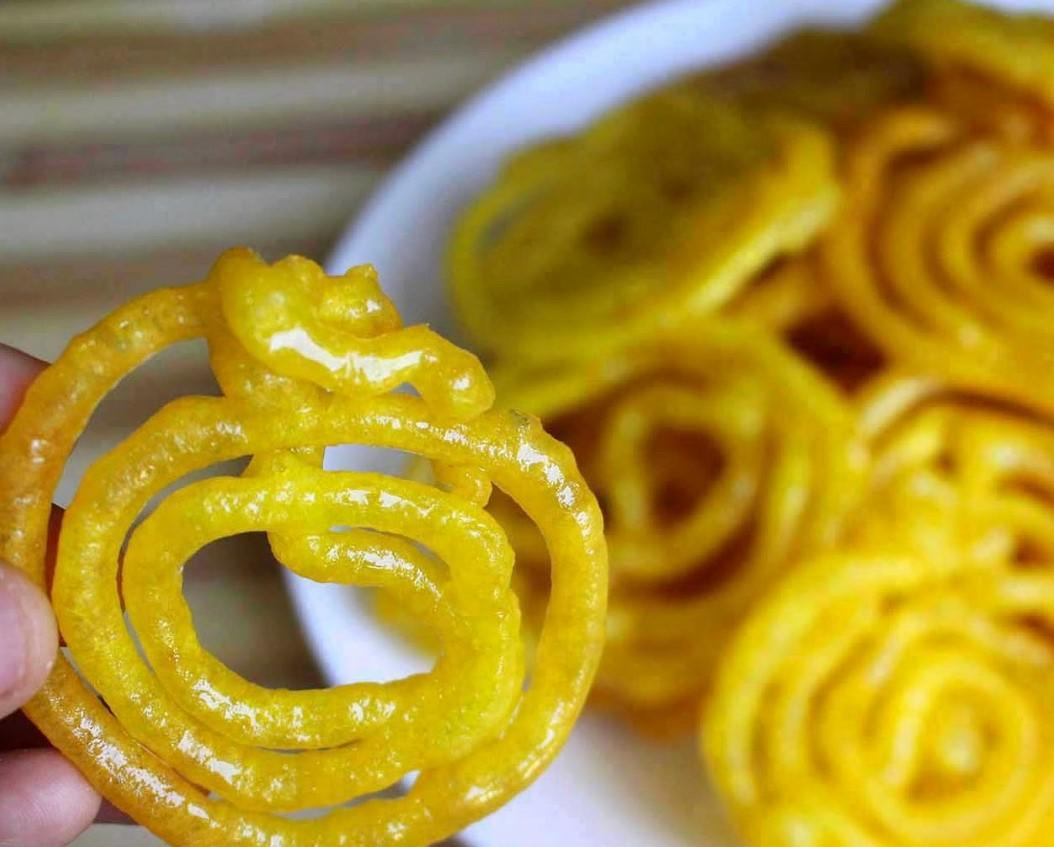Jalebi: (360, 0, 1054, 847), (4, 245, 608, 847)
